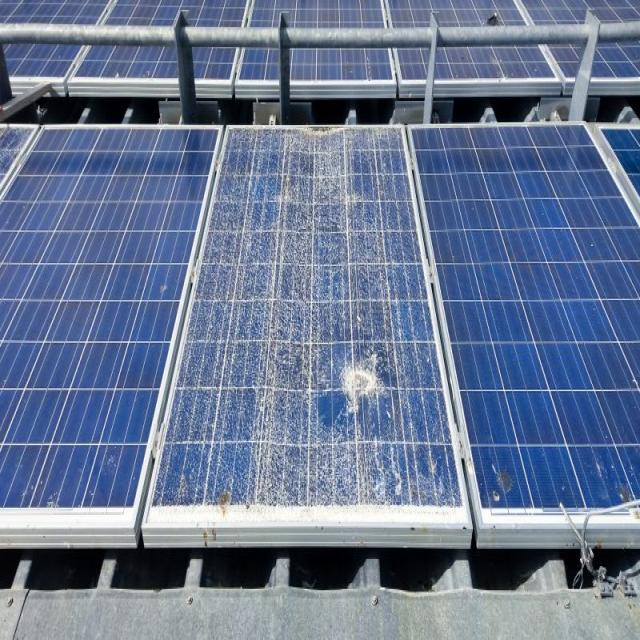dust-solar-panel: (141, 124, 469, 532)
